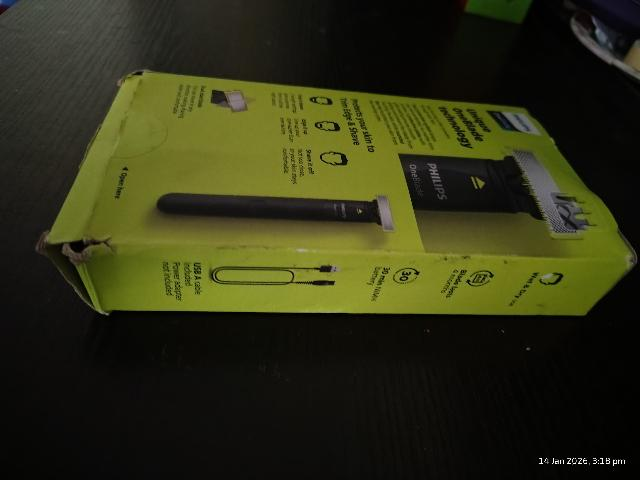phillips oneblade: (86, 63, 628, 323)
